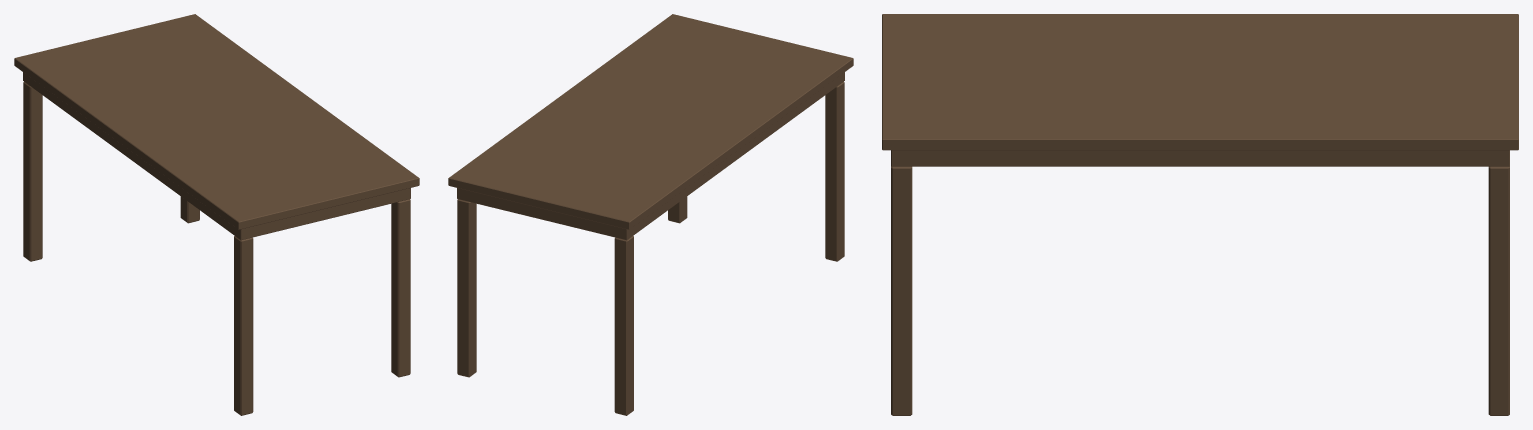
The model's file is tmp_table.fbx.
3 renders of one model, left to right at view 1: azimuth 30°, elevation 25°; view 2: azimuth 150°, elevation 25°; view 3: azimuth 270°, elevation 25°, orthographic. The views are drawn at different scales.
Parts seen in each view (by area): view 1: Table; view 2: Table; view 3: Table.
Boxes of the visible parts, <box> form: Table: <box>14,14,419,415</box>; Table: <box>448,14,853,415</box>; Table: <box>882,14,1518,415</box>.
Bounding box in the file's own units: 70 × 73.1 × 150.
